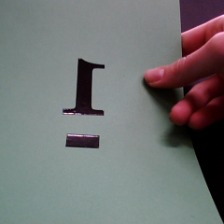green1: (55, 50, 128, 156)
